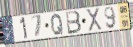1: (19, 17, 28, 40)
7: (29, 15, 43, 39)
9: (104, 6, 118, 30)
B: (65, 10, 83, 36)
Q: (50, 13, 64, 37)
X: (85, 7, 104, 33)
